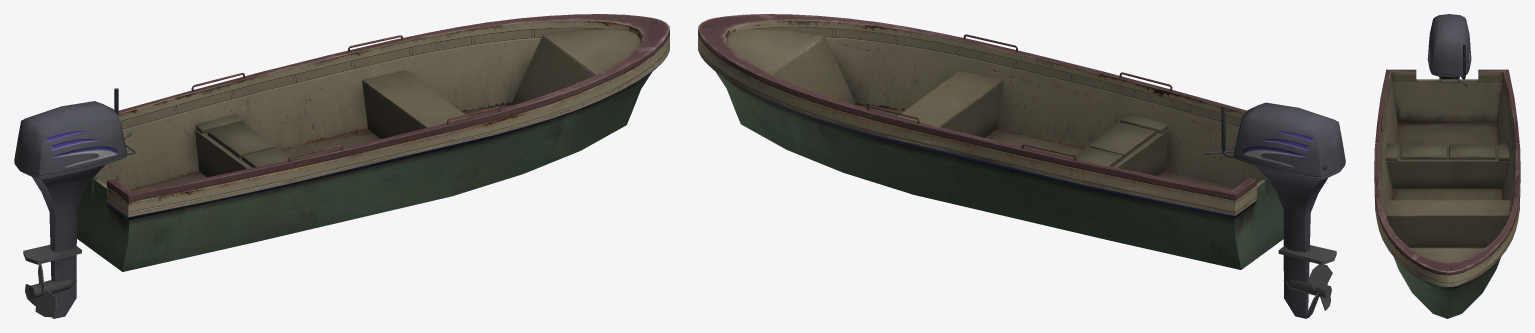
File: boat.obj
3 renders of one model, left to right at view 1: azimuth 30°, elevation 25°; view 2: azimuth 150°, elevation 25°; view 3: azimuth 270°, elevation 25°, orthographic. The views are drawn at different scales.
Parts seen in each view (by area): view 1: boat:boat01; view 2: boat:boat01; view 3: boat:boat01.
Part boxes in pixels (left/top/right/bottom): boat:boat01: left=14, top=14, right=669, bottom=318; boat:boat01: left=698, top=14, right=1345, bottom=318; boat:boat01: left=1374, top=14, right=1520, bottom=318.
Size of the model in its own units: 270 by 81.97 by 74.4.
1 material, 1 textured.
